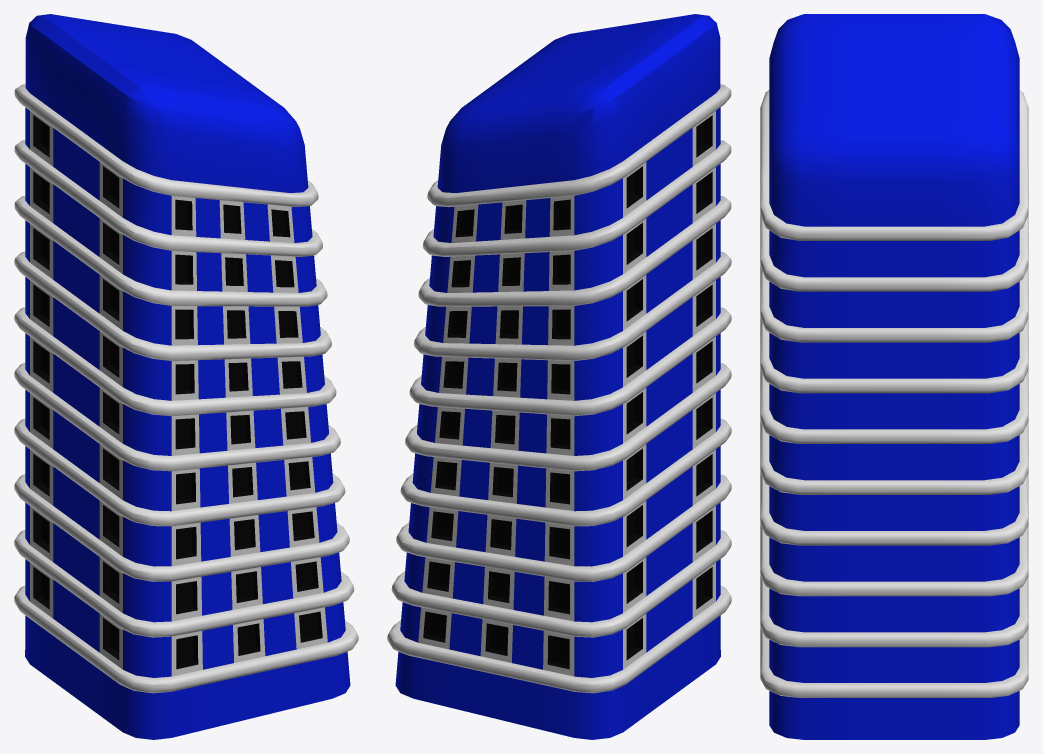
File: RezidansBuyuk.fbx
3 views of the same model, side by side, from view 1: azimuth 30°, elevation 25°; view 2: azimuth 150°, elevation 25°; view 3: azimuth 270°, elevation 25° (orthographic). The views are drawn at different scales.
Visible parts, largest first — view 1: Cube.005; view 2: Cube.005; view 3: Cube.005.
Boxes of the visible parts, x1=… form: Cube.005: x1=14, y1=14, x2=358, y2=739; Cube.005: x1=387, y1=14, x2=731, y2=739; Cube.005: x1=760, y1=14, x2=1028, y2=739.
Bounding box in the file's own units: 78.33 × 205 × 79.75.
